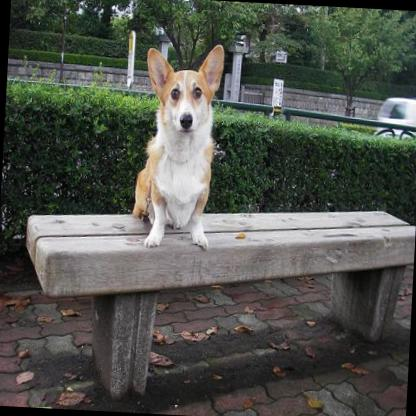Pembroke: (130, 38, 224, 250)
